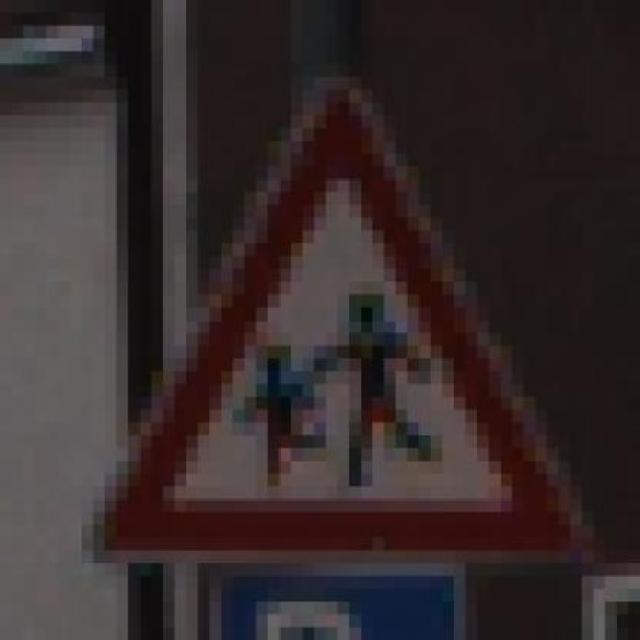Beware of children: (63, 66, 599, 579)
